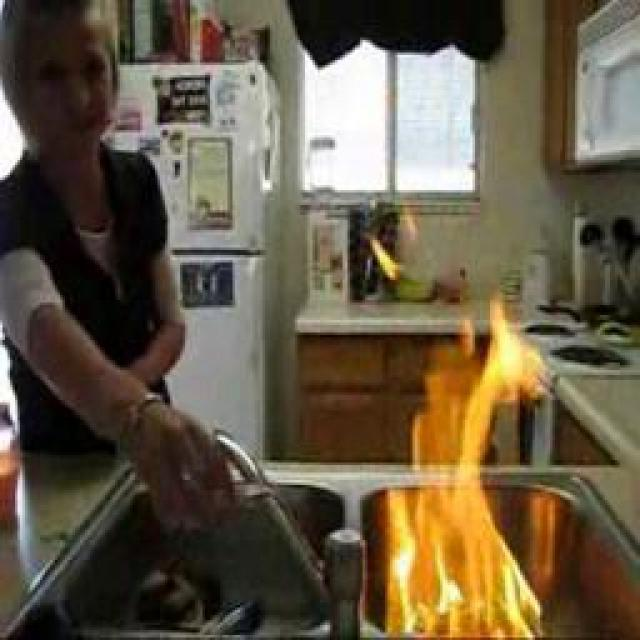Fire: (375, 317, 558, 640), (373, 216, 422, 279)
